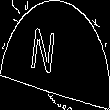N_S: (40, 26, 70, 84)
